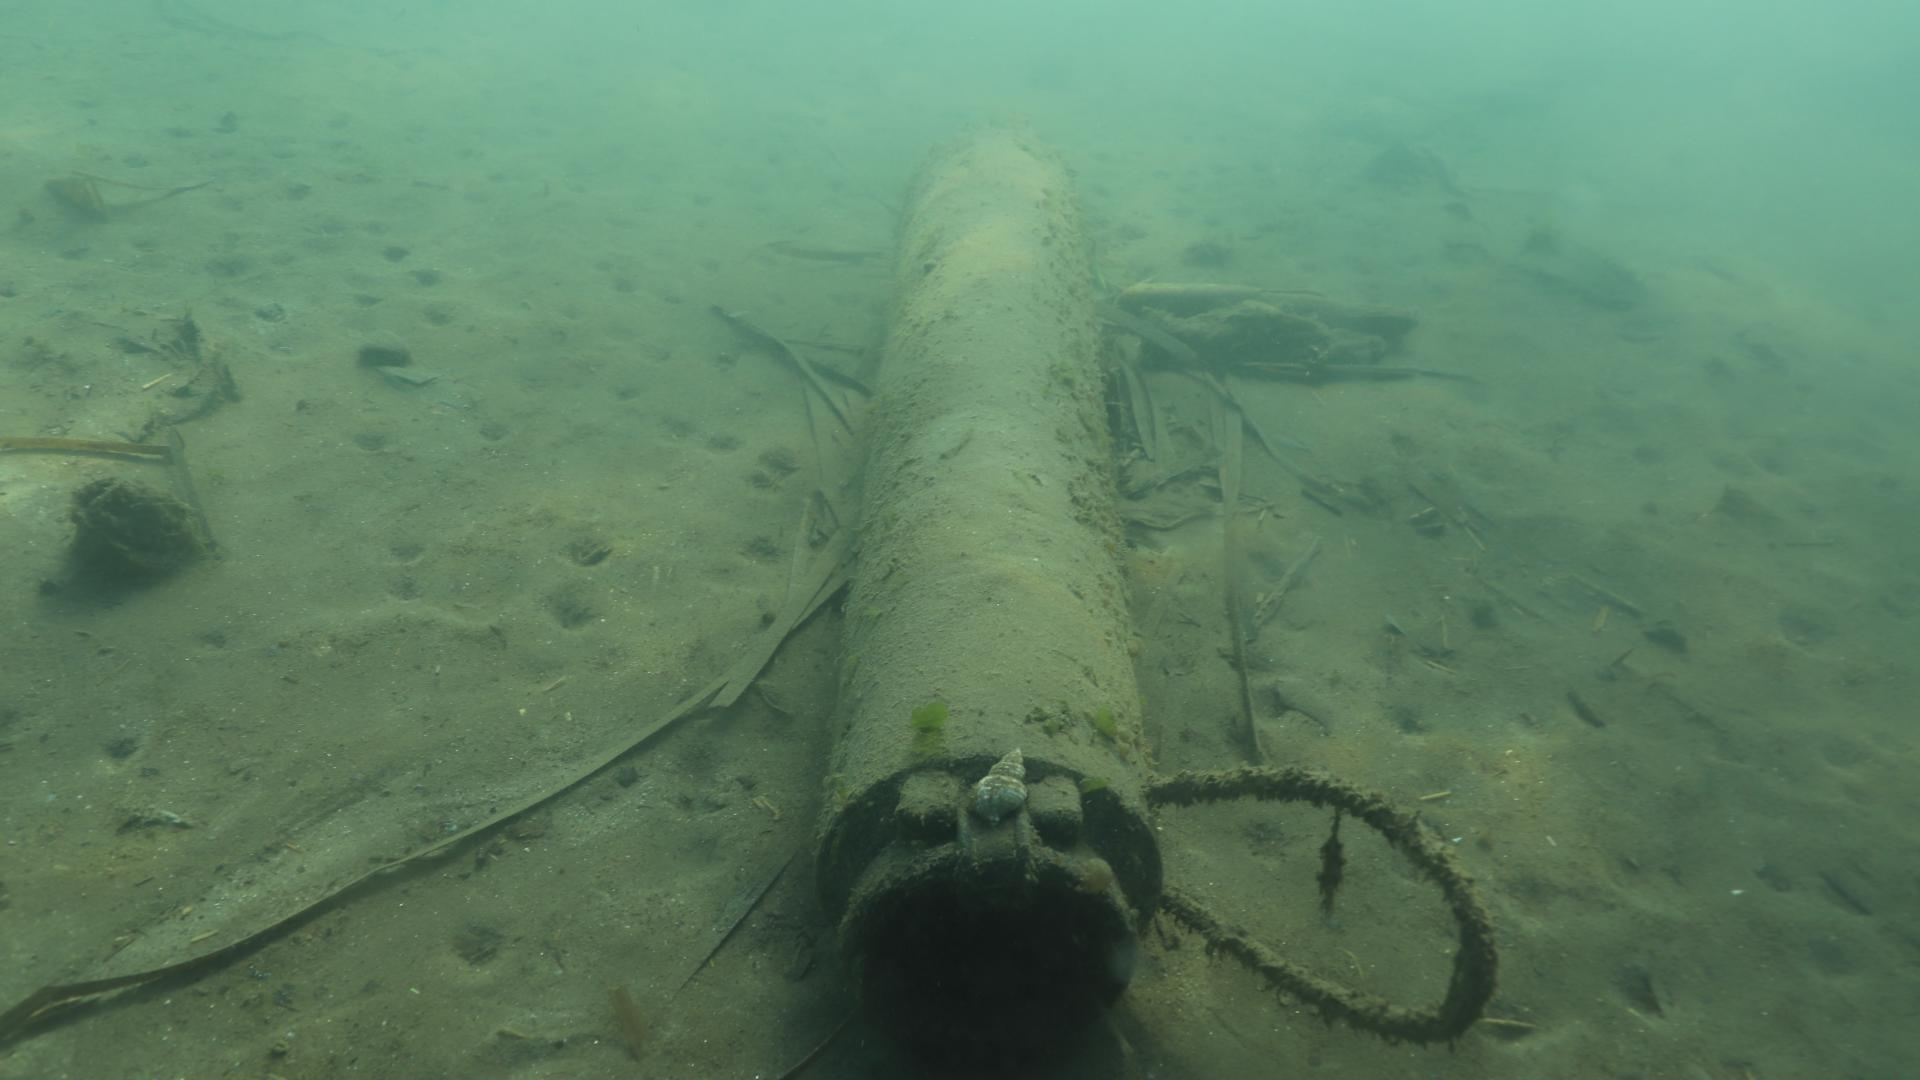eel fish trap: (820, 128, 1154, 1010)
rope: (1150, 767, 1495, 1044)
